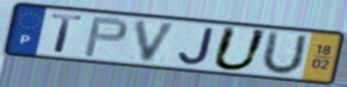J: (176, 26, 218, 67)
P: (81, 16, 130, 59)
T: (50, 12, 86, 55)
U: (209, 25, 271, 73), (257, 29, 310, 77)
V: (132, 18, 181, 65)
